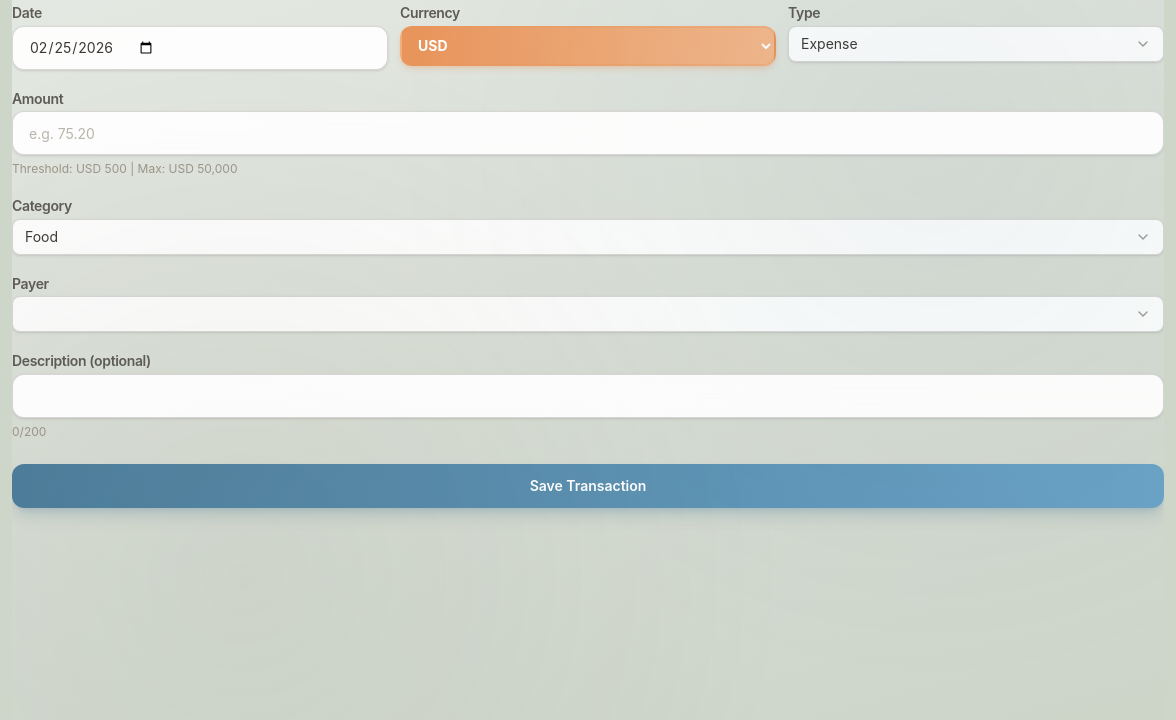
Test: QuickAddForm › Amount validation › shows error for zero amount
In the field with placeholder "e.g. 75.20": (588, 133) [12,111,1164,155], type "0"
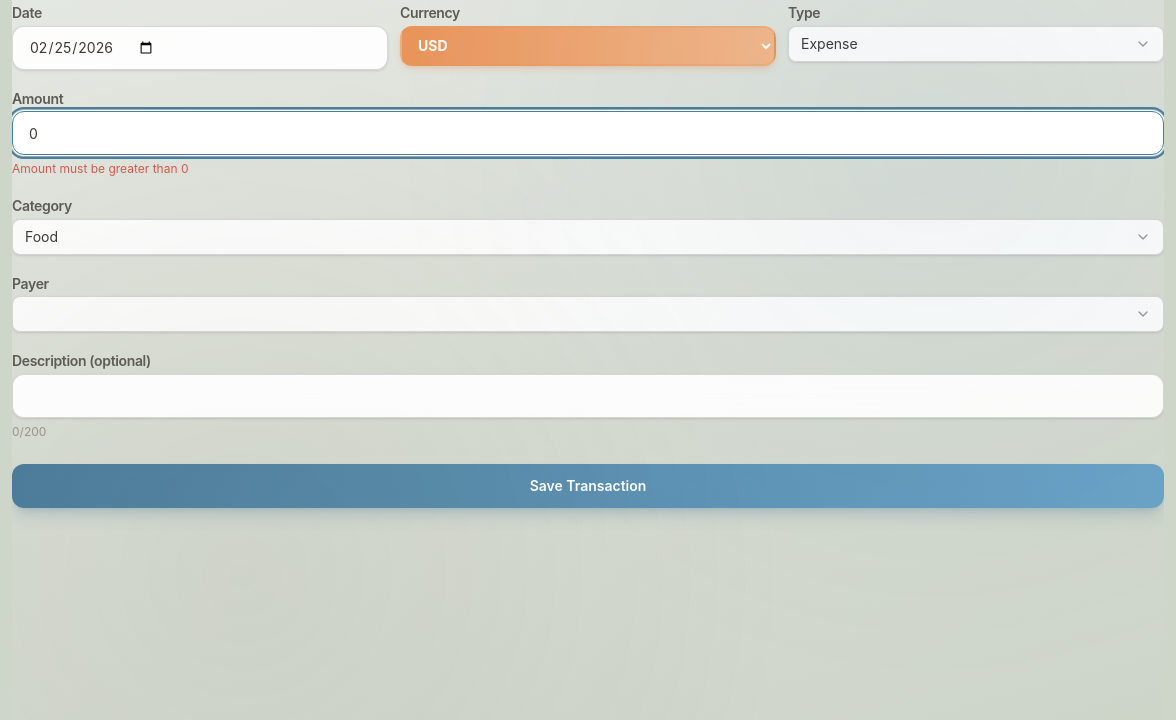
Check: the text "Amount must be greater than 0" is shown, box [12,161,188,176]
